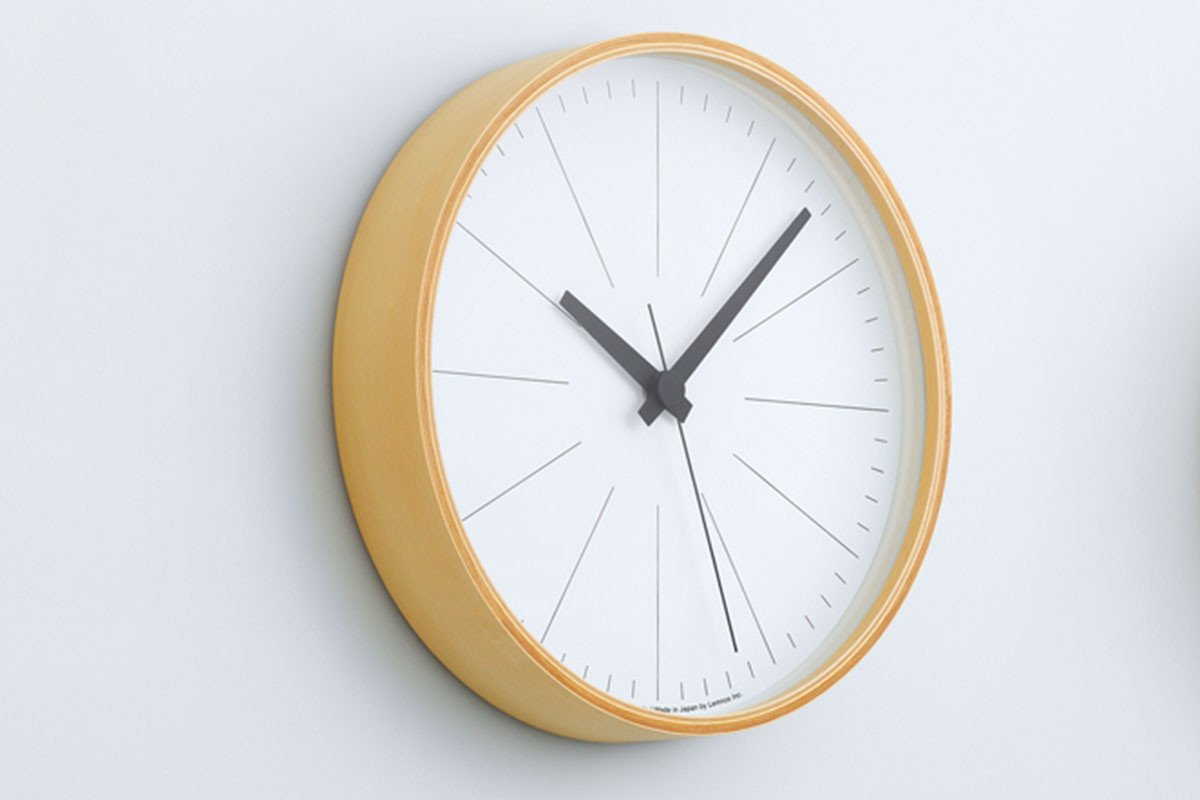clock: (337, 33, 953, 748)
